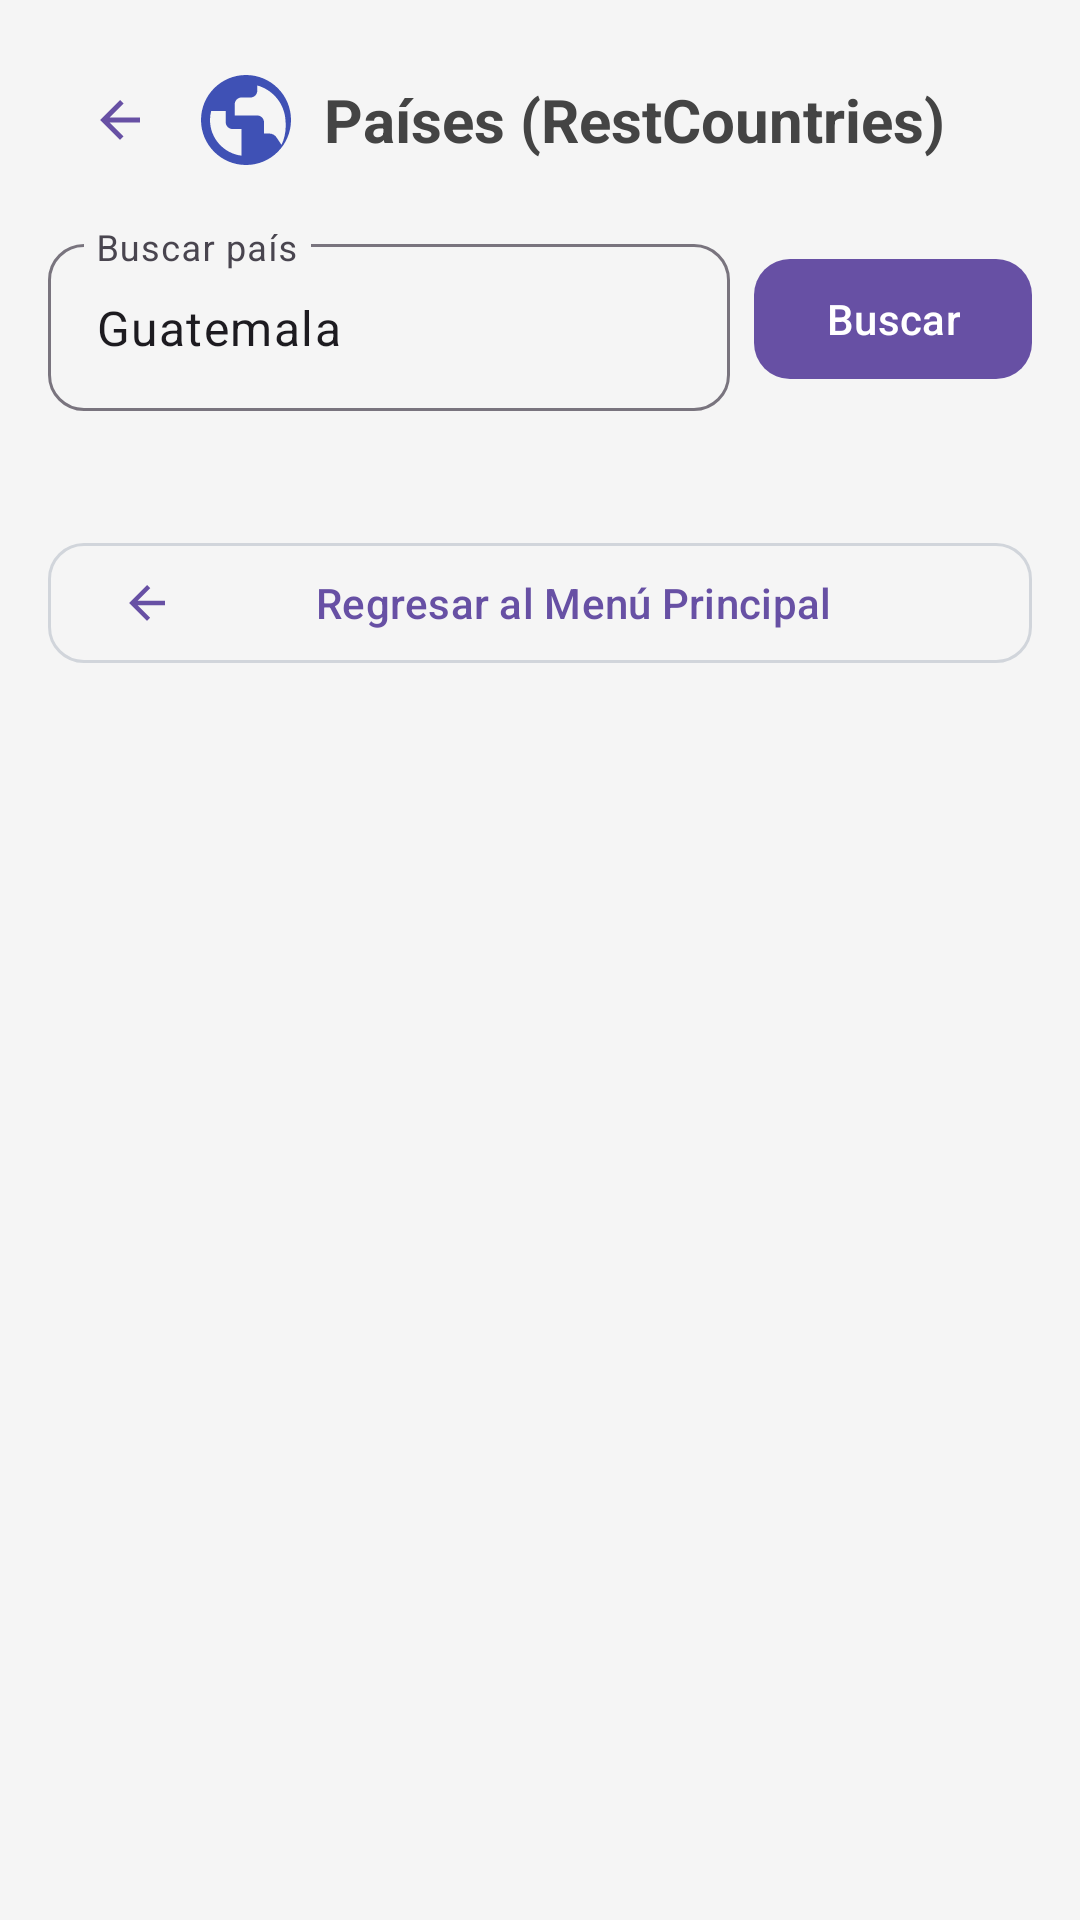

Icon click points for this 1080*1920 phone screenshot, format point (x, y):
Icono países: point (246, 120)
Volver al menú principal: point (120, 120)
